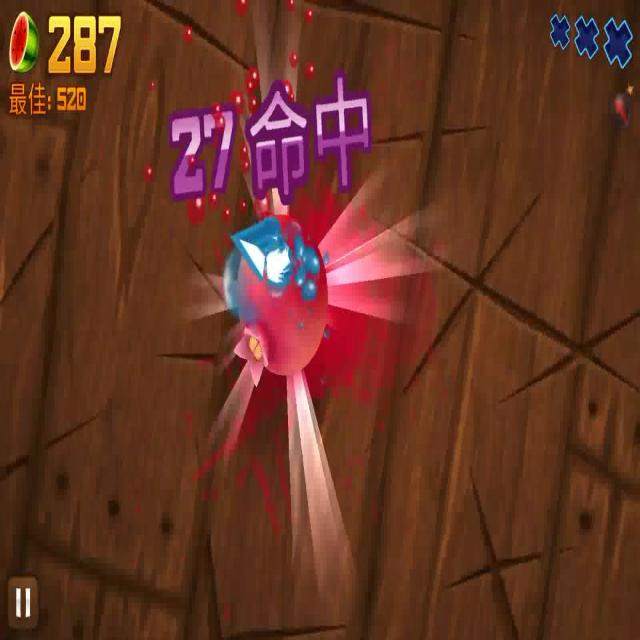fruit: (230, 220, 339, 378)
